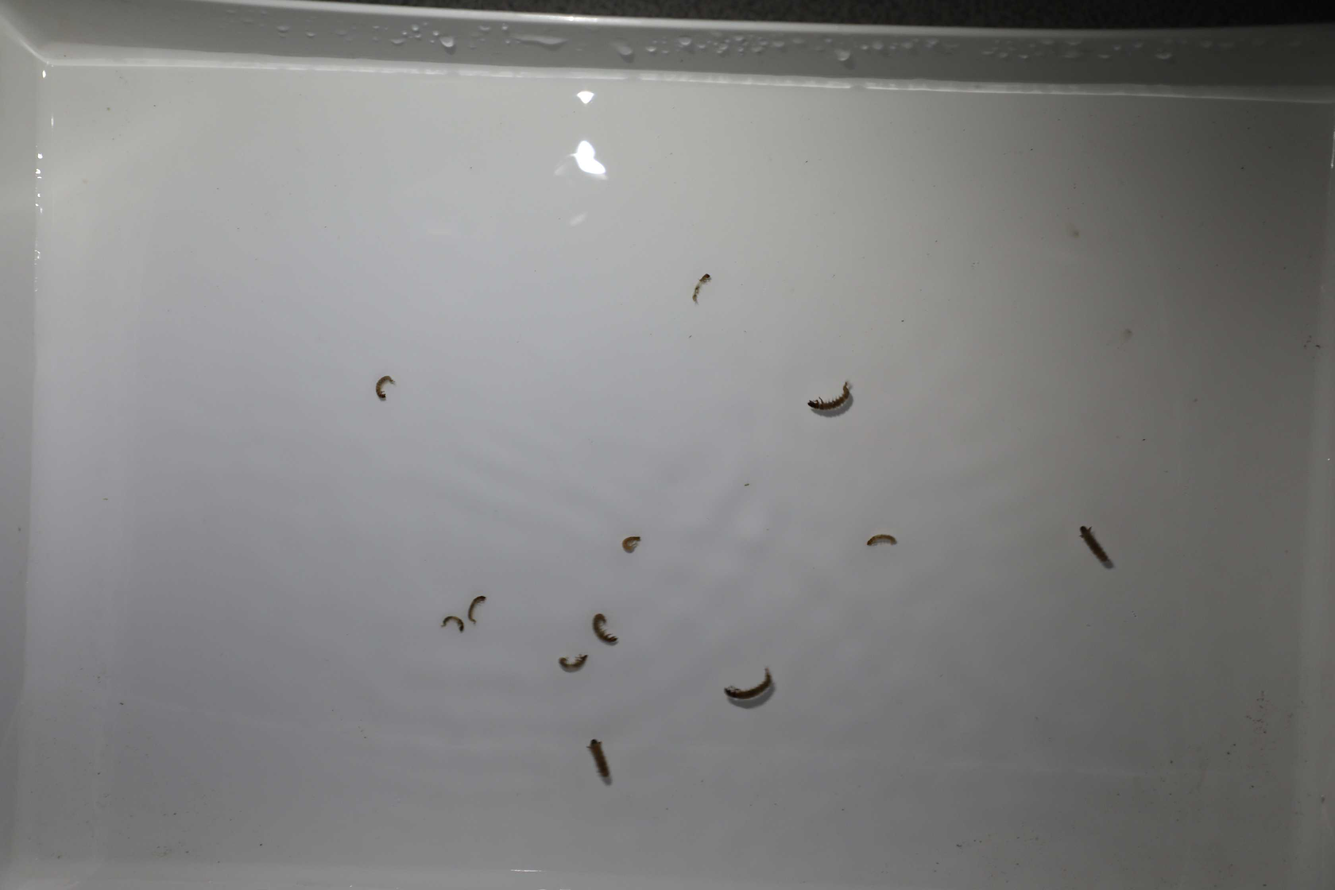Cadisfly: (722, 665, 778, 710), (1075, 523, 1118, 575), (807, 376, 854, 421), (586, 735, 614, 788), (591, 609, 621, 651), (687, 267, 713, 305), (555, 652, 594, 674), (372, 372, 400, 401), (862, 530, 900, 550), (464, 593, 489, 623), (438, 611, 466, 637), (618, 533, 646, 558)
